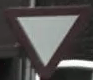Give way: (4, 7, 85, 72)
